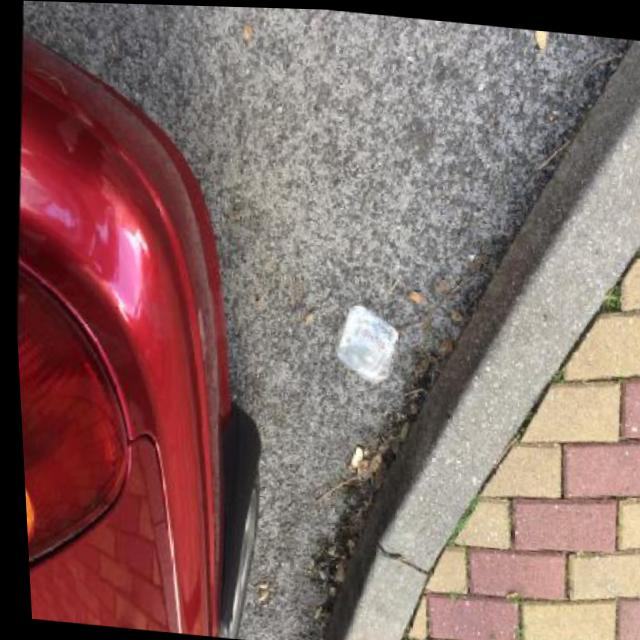plastic: (328, 302, 400, 388)
